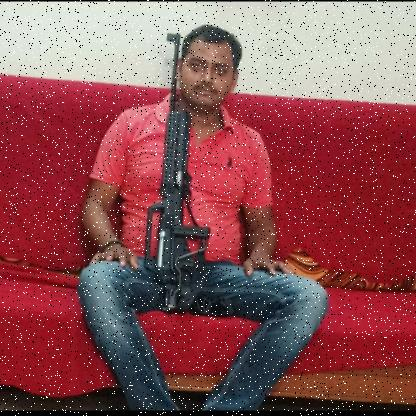rifle: (142, 32, 214, 318)
